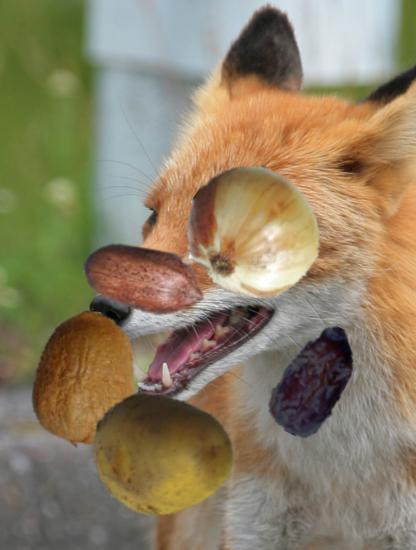Dates: (256, 322, 373, 439)
Kiwi: (16, 311, 154, 449)
Nut: (80, 216, 208, 344)
Onion: (183, 165, 322, 304)
Potato: (92, 382, 232, 522)
